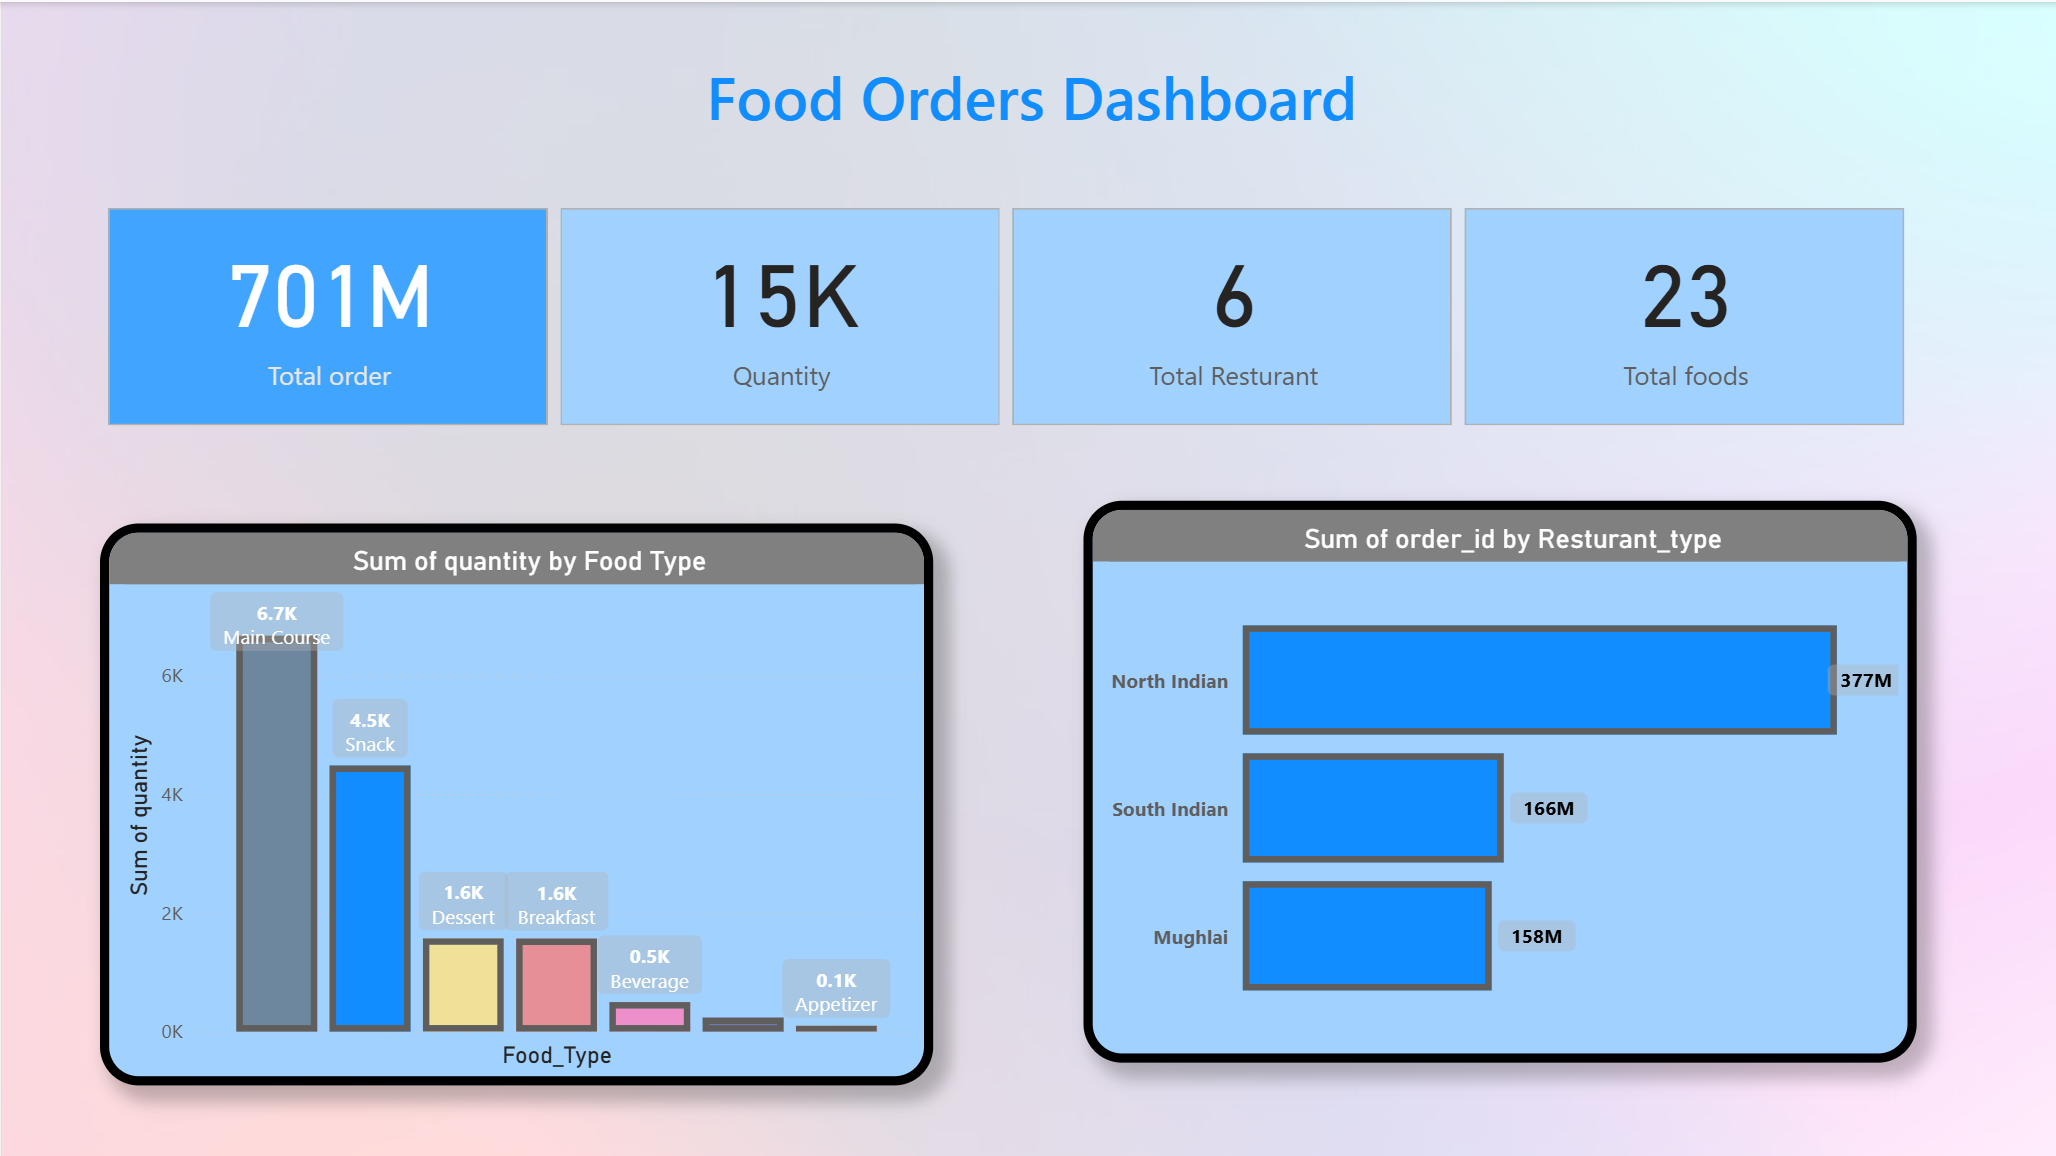

The dashboard page shown, as its layout file describes it:
{"tool":"powerbi","page":{"name":"Dashboard","canvas":[1280,720],"ordinal":0},"visuals":[{"type":"clusteredColumnChart","title":"Sum of quantity by Food Type","fields":{"Y":["Sum(Orders Data.quantity)"],"Category":["Food_Details.Food_Type"]},"box":[60.4,323.7,517.6,349.4],"z":0},{"type":"clusteredBarChart","fields":{"Category":["Restaurant_Details.Resturant_type"],"Y":["Sum(Orders Data.order_id)"]},"box":[671.7,309.5,517.6,349.4],"z":1000},{"type":"cardVisual","fields":{"Data":["Sum(Orders Data.order_id)","Sum(Orders Data.quantity)","CountNonNull(Restaurant_Details.Resturant_Code)","CountNonNull(Food_Details.ItemCode)"]},"box":[60.4,123.3,1129,145.1],"z":2000},{"type":"textbox","box":[312.2,28.2,655.7,95.7],"z":2001}]}

Visuals, with their boxes in screenshot pixels (x1, y1, x2, y2), scaled from the page's 1280x720 canvas onto the 2056x1156 screenshot:
"Sum of quantity by Food Type" clusteredColumnChart: (x1=97, y1=520, x2=928, y2=1081)
clusteredBarChart - Restaurant_Details.Resturant_type x Sum(Orders Data.order_id): (x1=1079, y1=497, x2=1910, y2=1058)
cardVisual - Sum(Orders Data.order_id) x Sum(Orders Data.quantity): (x1=97, y1=198, x2=1910, y2=431)
textbox: (x1=501, y1=45, x2=1555, y2=199)
